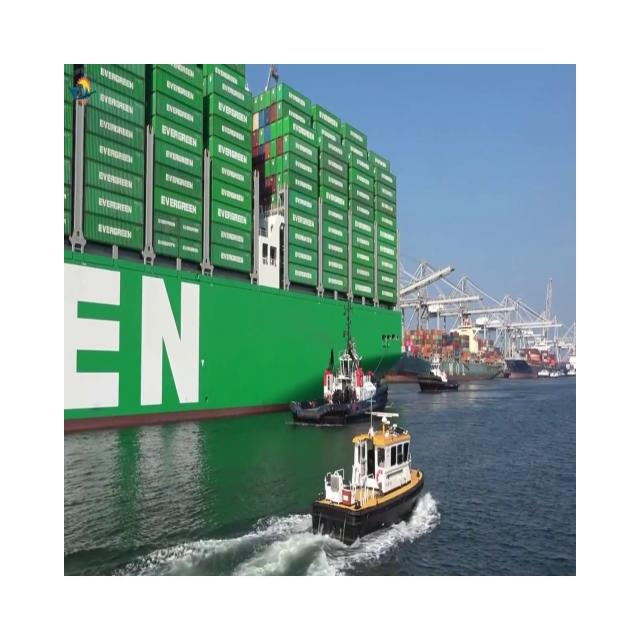OCR: (64, 254, 216, 420)
